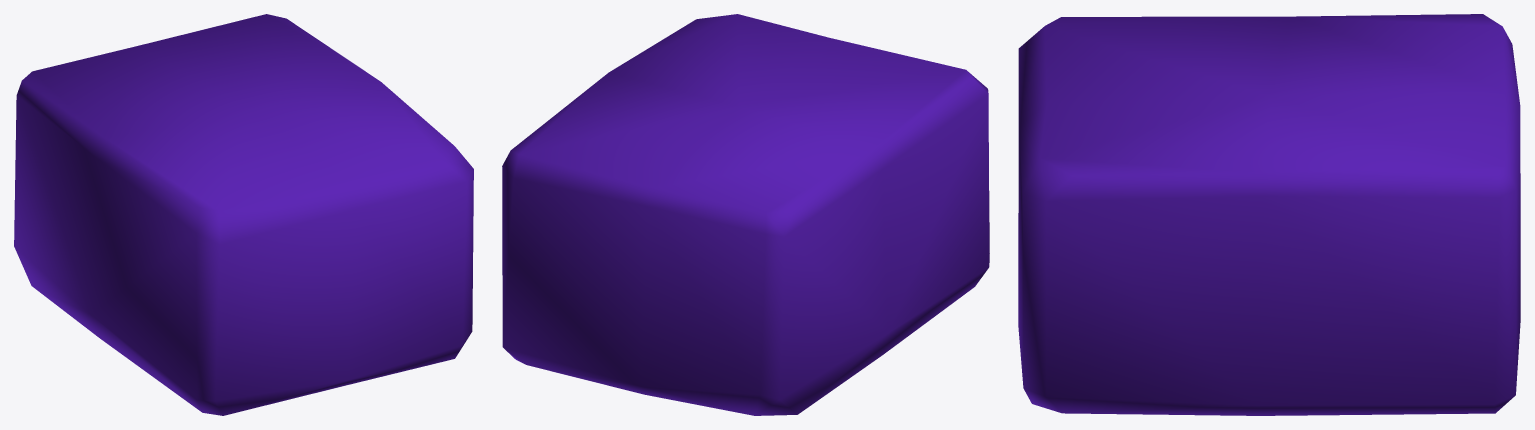
The model's file is block_02.FBX.
The picture shows the model from 3 angles, left to right: view 1: azimuth 30°, elevation 25°; view 2: azimuth 150°, elevation 25°; view 3: azimuth 270°, elevation 25°; orthographic projection. The views are drawn at different scales.
Visible parts, largest first — view 1: block_02; view 2: block_02; view 3: block_02.
Boxes of the visible parts, left/top/right/bottom form: block_02: left=14, top=14, right=473, bottom=415; block_02: left=502, top=14, right=989, bottom=415; block_02: left=1018, top=14, right=1520, bottom=415.
Size of the model in its own units: 13.1 by 9.09 by 16.54.
